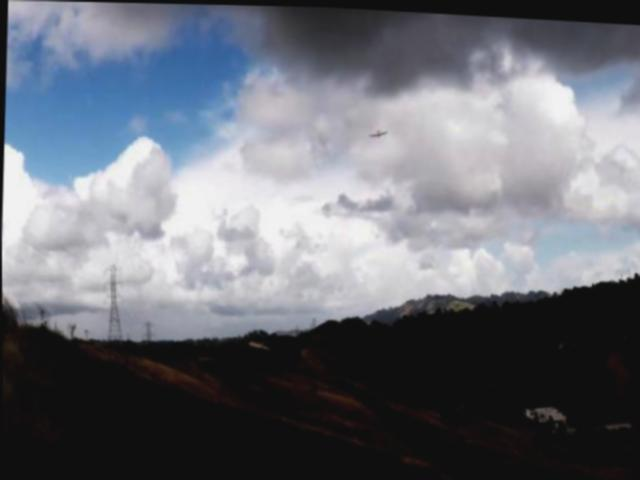iha: (366, 123, 388, 138)
